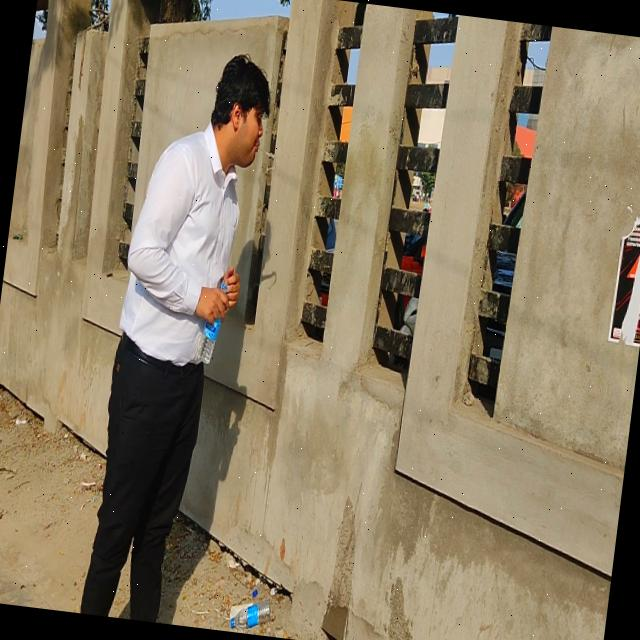spit: (213, 55, 283, 183)
